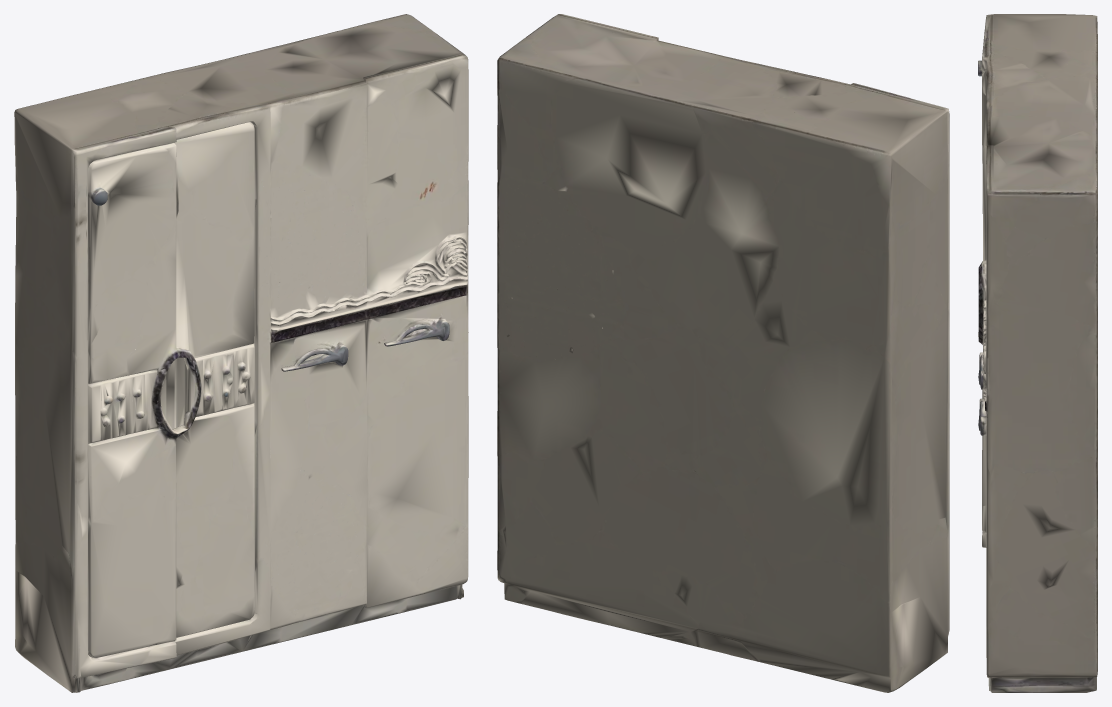
The model's file is cabinet_custom.glb.
3 views of the same model, side by side, from view 1: azimuth 30°, elevation 25°; view 2: azimuth 150°, elevation 25°; view 3: azimuth 270°, elevation 25° (orthographic). The views are drawn at different scales.
Parts seen in each view (by area): view 1: node_0; view 2: node_0; view 3: node_0.
Part boxes in pixels (x1=…): node_0: x1=14, y1=14, x2=468, y2=692; node_0: x1=497, y1=14, x2=949, y2=692; node_0: x1=978, y1=14, x2=1097, y2=692.
Size of the model in its own units: 0.7209 by 0.9477 by 0.2046.
1 material, 1 textured.
